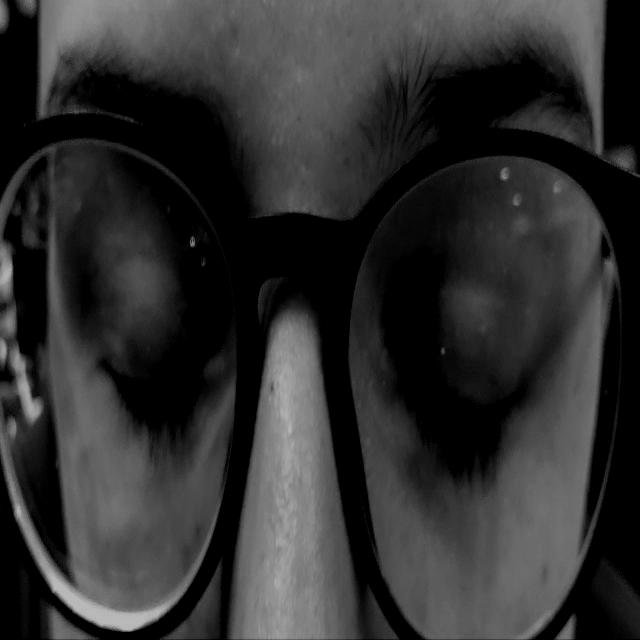real: (47, 73, 557, 540)
